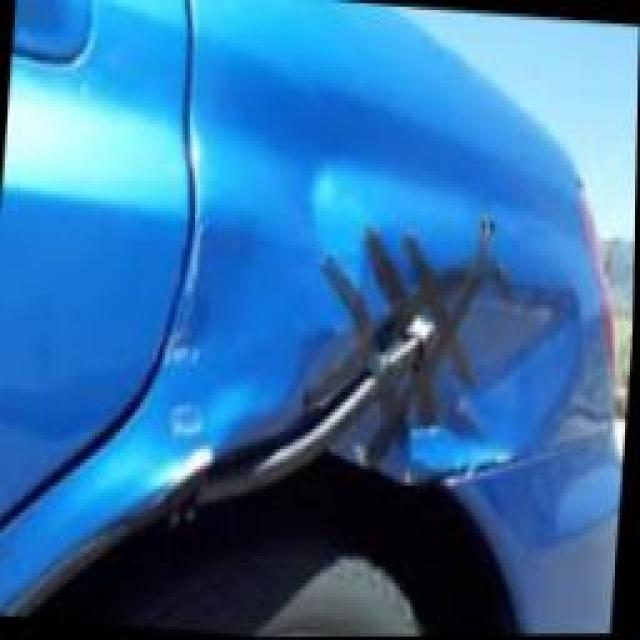Fender: (274, 154, 613, 491)
